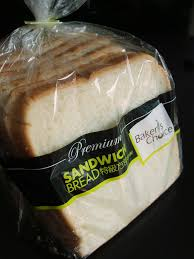bread: (5, 15, 184, 259)
